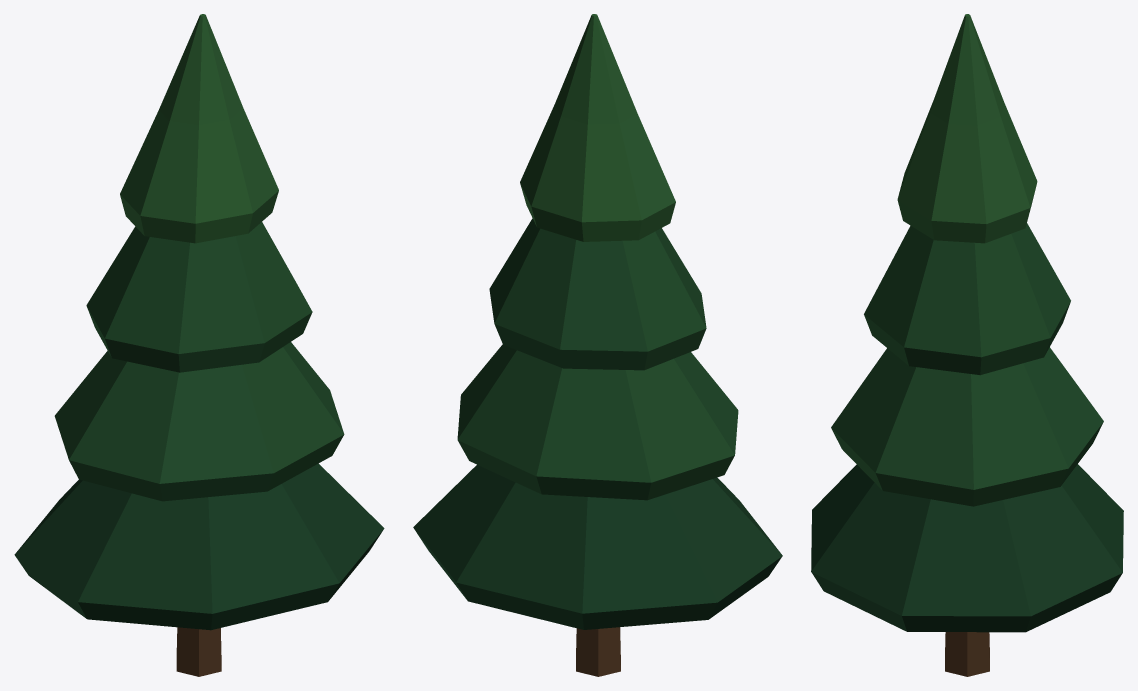
Rendered from E1_pine_a.glb.
The picture shows the model from 3 angles, left to right: view 1: azimuth 30°, elevation 25°; view 2: azimuth 150°, elevation 25°; view 3: azimuth 270°, elevation 25°; orthographic projection.
Parts seen in each view (by area): view 1: E1_pine_a; view 2: E1_pine_a; view 3: E1_pine_a.
Part boxes in pixels (left/top/right/bottom): E1_pine_a: left=14, top=14, right=384, bottom=676; E1_pine_a: left=413, top=14, right=782, bottom=676; E1_pine_a: left=811, top=14, right=1123, bottom=676.
Size of the model in its own units: 2.07 by 4.2 by 1.82.
